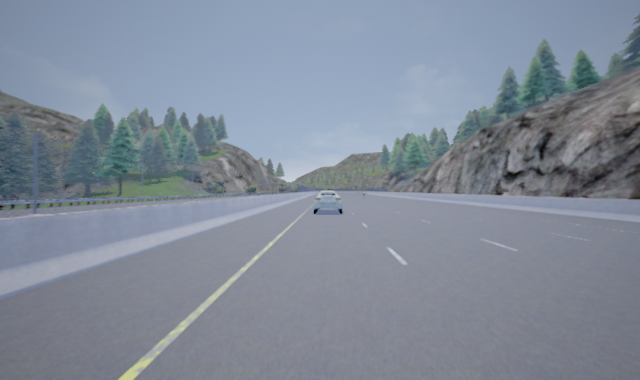vehicle: (312, 190, 343, 214)
